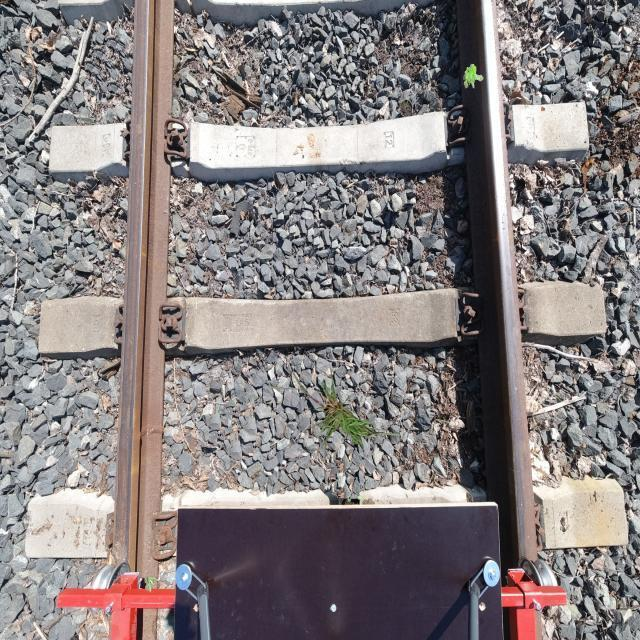Plant: (269, 363, 412, 453), (463, 64, 484, 89), (145, 577, 159, 592)
